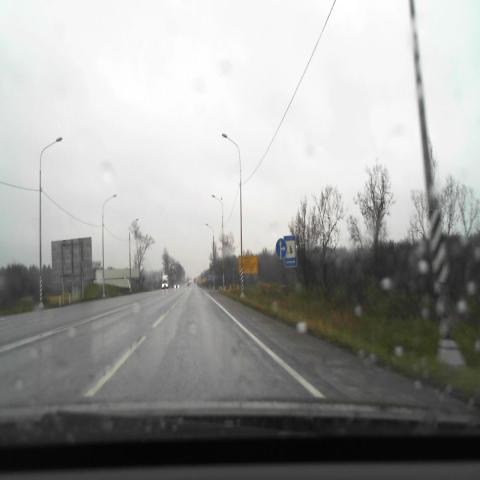4_1_4: (276, 238, 286, 259)
7_11: (284, 236, 297, 267)
